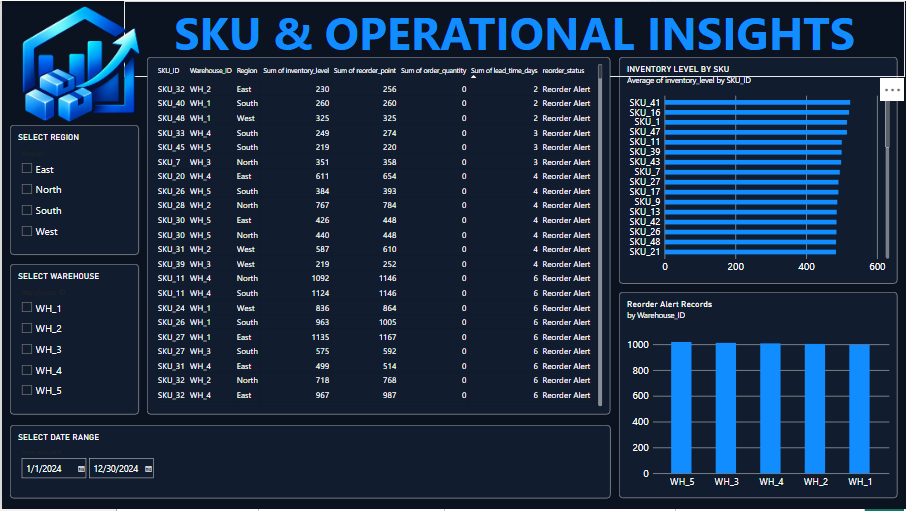

The page's visual inventory and layout, read from the dashboard file:
{"tool":"powerbi","page":{"name":"SKU & Operational Insights","canvas":[1920,1080],"ordinal":3},"visuals":[{"type":"clusteredBarChart","title":"INVENTORY LEVEL BY SKU","fields":{"Category":["inventory_analysis csv.SKU_ID"],"Y":["Avg(inventory_analysis csv.inventory_level)"]},"box":[1311.1,118.8,591.8,481.7],"z":0},{"type":"textbox","box":[259.2,0,1661,162],"z":1},{"type":"image","box":[0,0,326.2,263.5],"z":2},{"type":"clusteredColumnChart","fields":{"Category":["inventory_analysis csv.Warehouse_ID"],"Y":["inventory_analysis csv.Reorder Alert Records"]},"box":[1311.1,617.8,591.8,438.5],"z":3},{"type":"tableEx","fields":{"Values":["inventory_analysis csv.SKU_ID","inventory_analysis csv.Warehouse_ID","inventory_analysis csv.Region","Sum(inventory_analysis csv.inventory_level)","Sum(inventory_analysis csv.reorder_point)","Sum(inventory_analysis csv.order_quantity)","Sum(inventory_analysis csv.lead_time_days)","inventory_analysis csv.reorder_status"]},"box":[308.9,118.8,985,760.3],"z":4},{"type":"slicer","title":"SELECT REGION","fields":{"Values":["inventory_analysis csv.Region"]},"box":[17.3,263.5,274.3,276.5],"z":5},{"type":"slicer","title":"SELECT WAREHOUSE","fields":{"Values":["inventory_analysis csv.Warehouse_ID"]},"box":[17.3,559.4,274.3,319.7],"z":6},{"type":"slicer","title":"SELECT DATE RANGE","fields":{"Values":["inventory_analysis csv.observation_date"]},"box":[17.3,900.7,1276.6,155.5],"z":7}]}

Visuals, with their boxes in screenshot pixels (x1, y1, x2, y2), scaled from the page's 1920x1080 canvas onto the 906x511 screenshot:
"INVENTORY LEVEL BY SKU" clusteredBarChart: [619, 56, 898, 284]
textbox: [122, 0, 905, 77]
image: [0, 0, 154, 125]
clusteredColumnChart - inventory_analysis csv.Warehouse_ID x inventory_analysis csv.Reorder Alert Records: [619, 292, 898, 500]
tableEx - inventory_analysis csv.SKU_ID x inventory_analysis csv.Warehouse_ID: [146, 56, 611, 416]
"SELECT REGION" slicer: [8, 125, 138, 256]
"SELECT WAREHOUSE" slicer: [8, 265, 138, 416]
"SELECT DATE RANGE" slicer: [8, 426, 611, 500]
